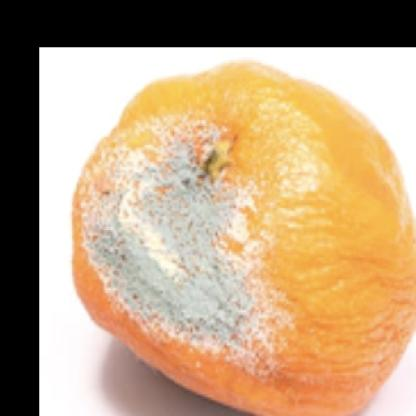rotten: (72, 62, 416, 416)
